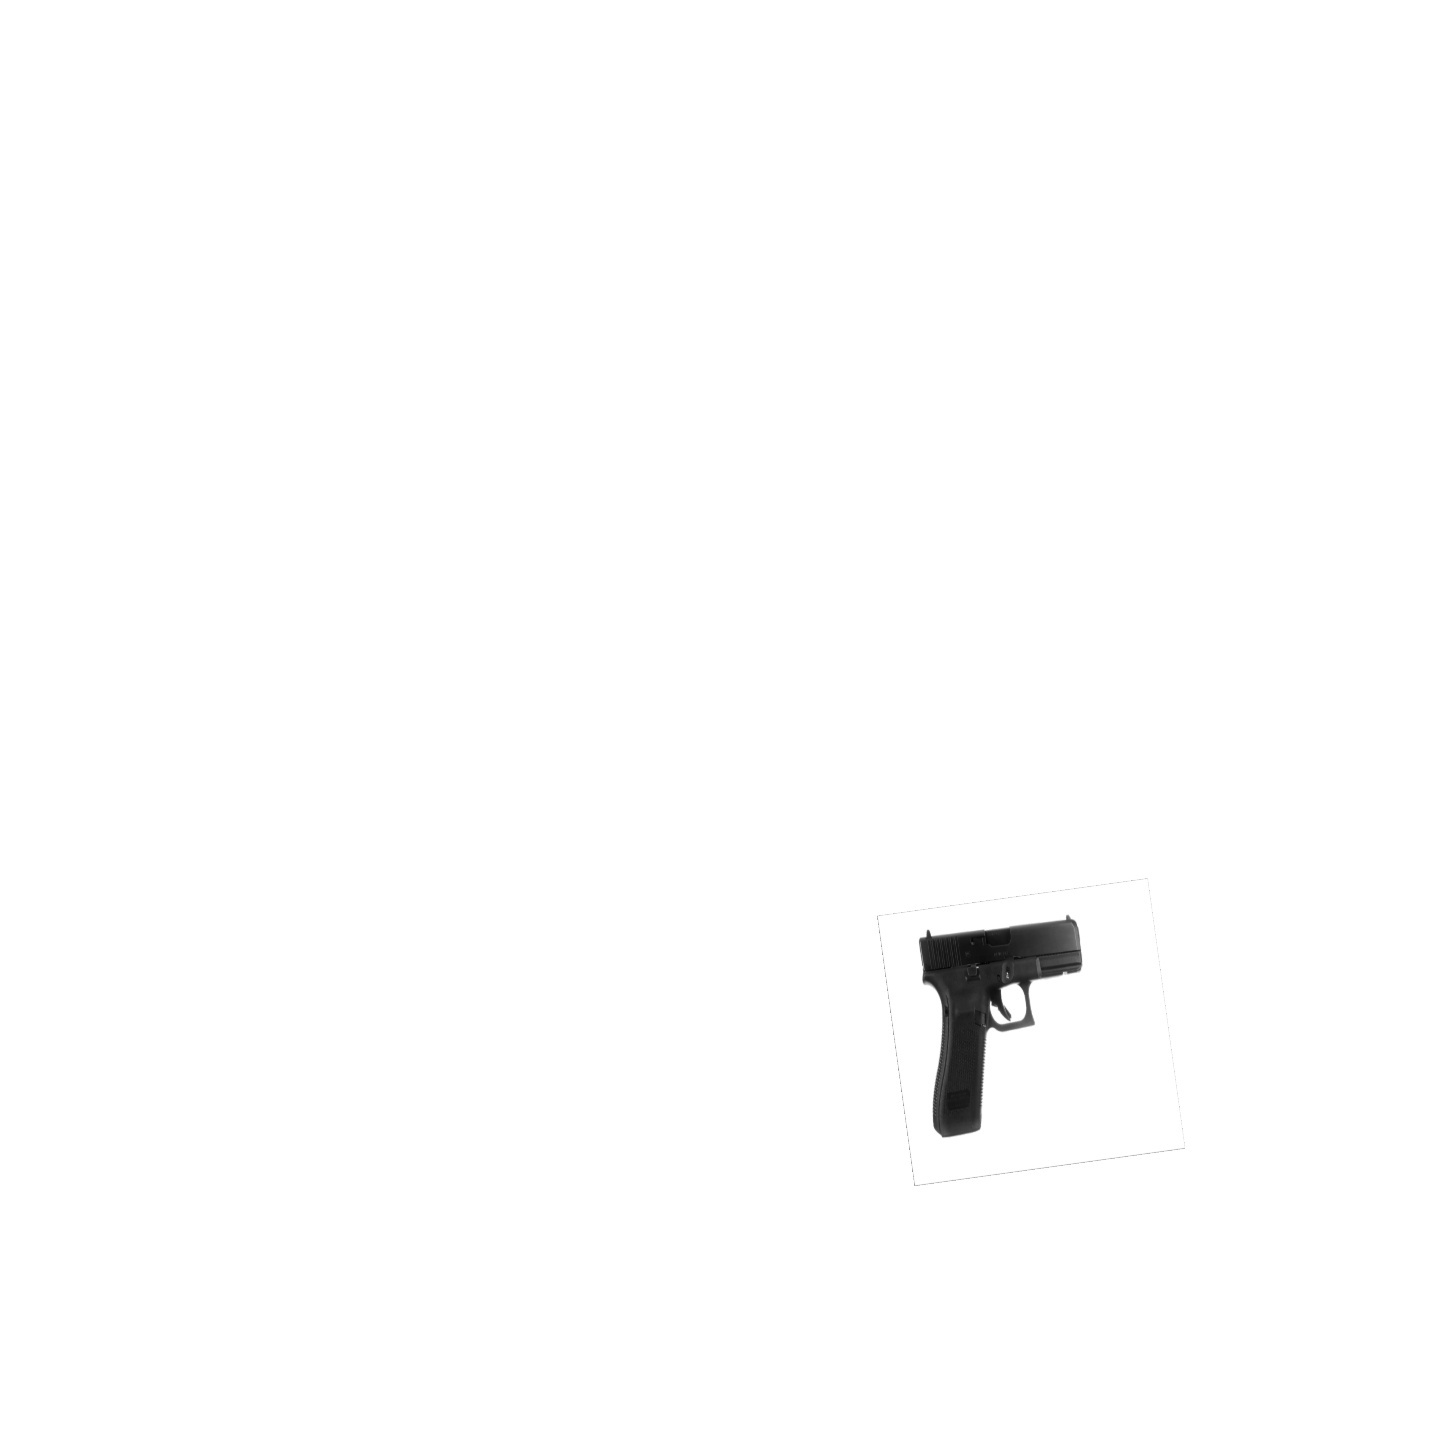gun: (915, 909, 1096, 1147)
